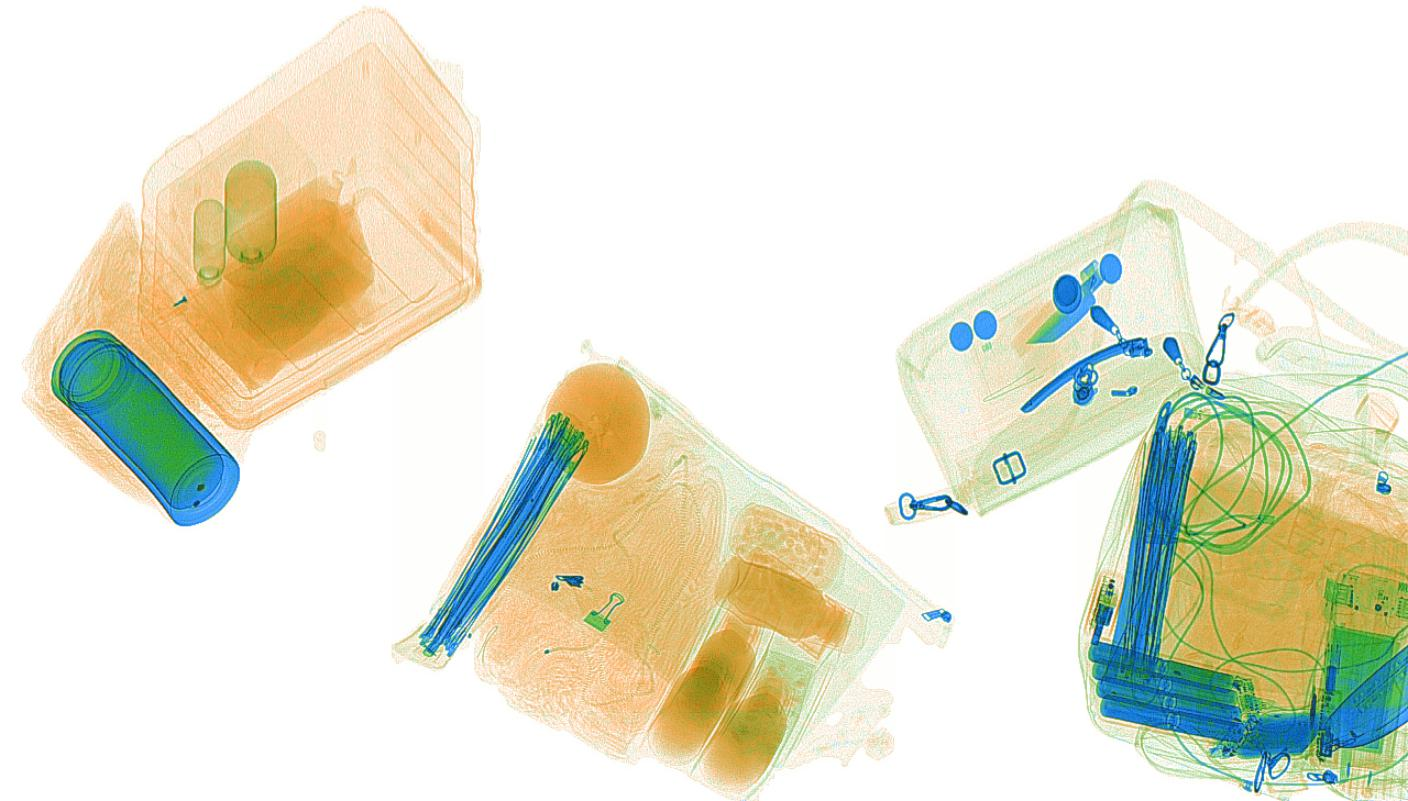battery: (1084, 633, 1262, 753)
knife: (1014, 256, 1108, 357)
